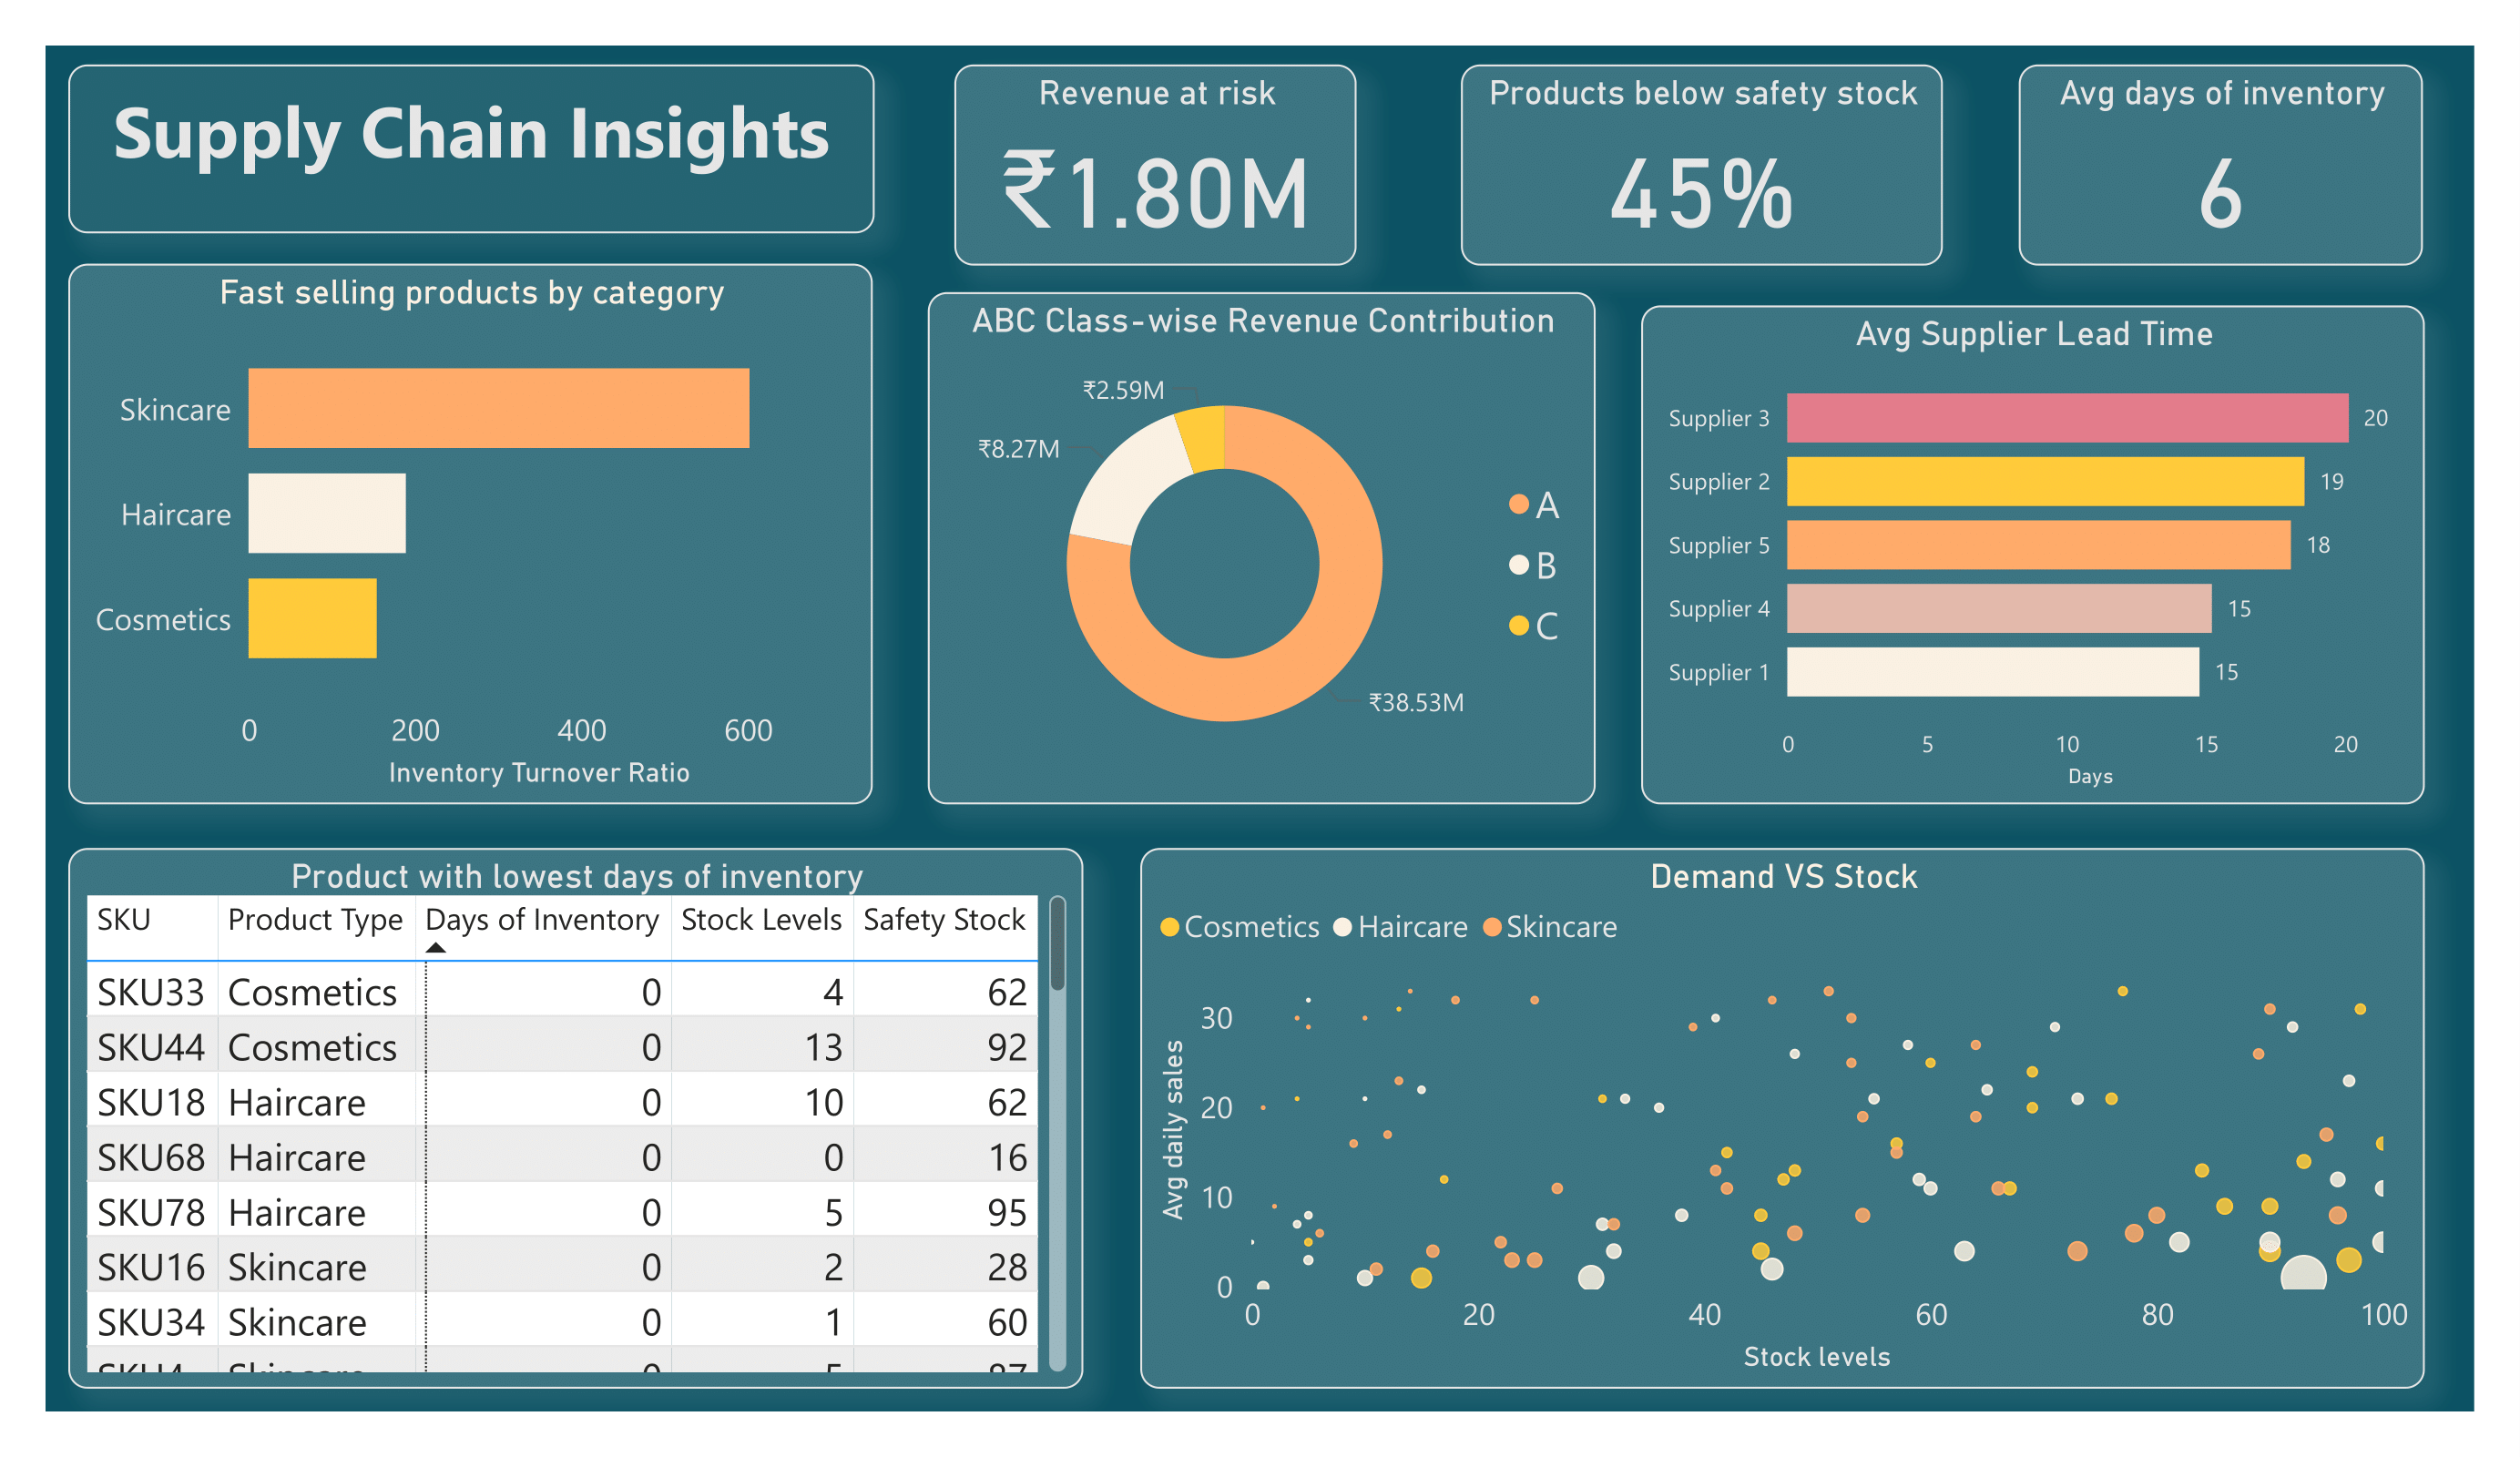

This screenshot's page, from the dashboard's own definition file:
{"tool":"powerbi","page":{"name":"Page 1","canvas":[1280,720],"ordinal":0},"visuals":[{"type":"tableEx","title":"Product with lowest days of inventory","fields":{"Values":["supply_chain_data.sku","supply_chain_data.product_type","supply_chain_data.days_of_inventory","supply_chain_data.stock_levels","supply_chain_data.safety_Stock"]},"box":[11.5,422.7,535.3,285.7],"z":0},{"type":"card","title":"Revenue at risk","fields":{"Values":["supply_chain_data.Measure"]},"box":[479,9.7,212.3,106.2],"z":1000},{"type":"barChart","title":"Fast selling products by category","fields":{"Y":["Max(supply_chain_data.inventory_turnover_ratio)"],"Category":["supply_chain_data.product_type"]},"box":[11.5,115.4,424.2,284.2],"z":2000},{"type":"scatterChart","title":"Demand VS Stock","fields":{"X":["supply_chain_data.stock_levels"],"Series":["supply_chain_data.product_type"],"Y":["supply_chain_data.avg_daily_sales"],"Size":["Avg(supply_chain_data.days_of_inventory)"]},"box":[577.1,422.7,676.7,285.7],"z":3000},{"type":"donutChart","title":"ABC Class-wise Revenue Contribution","fields":{"Category":["supply_chain_data.abc_analyse"],"Y":["Sum(supply_chain_data.Total_revenue)"]},"box":[464.6,129.8,352,269.8],"z":4000},{"type":"textbox","box":[12.1,9.7,424.7,89.3],"z":5000},{"type":"card","title":"Products below safety stock","fields":{"Values":["supply_chain_data.Percent Below Safety Stock"]},"box":[745.6,9.7,254.6,106.2],"z":6000},{"type":"card","title":"Avg days of inventory","fields":{"Values":["Avg(supply_chain_data.days_of_inventory)"]},"box":[1040,9.7,213.5,106.2],"z":7000},{"type":"clusteredBarChart","title":"Avg Supplier Lead Time","fields":{"Category":["supply_chain_data.supplier_name"],"Y":["Avg(supply_chain_data.supplier_leadtime)"]},"box":[841.1,137.1,412.6,262.6],"z":8000}]}

Visuals, with their boxes in screenshot pixels (x1, y1, x2, y2):
"Product with lowest days of inventory" tableEx: [48,847,1088,1401]
"Revenue at risk" card: [956,45,1369,251]
"Fast selling products by category" barChart: [48,250,872,802]
"Demand VS Stock" scatterChart: [1147,847,2461,1401]
"ABC Class-wise Revenue Contribution" donutChart: [928,279,1612,802]
textbox: [50,45,874,219]
"Products below safety stock" card: [1474,45,1968,251]
"Avg days of inventory" card: [2046,45,2460,251]
"Avg Supplier Lead Time" clusteredBarChart: [1659,292,2460,802]
